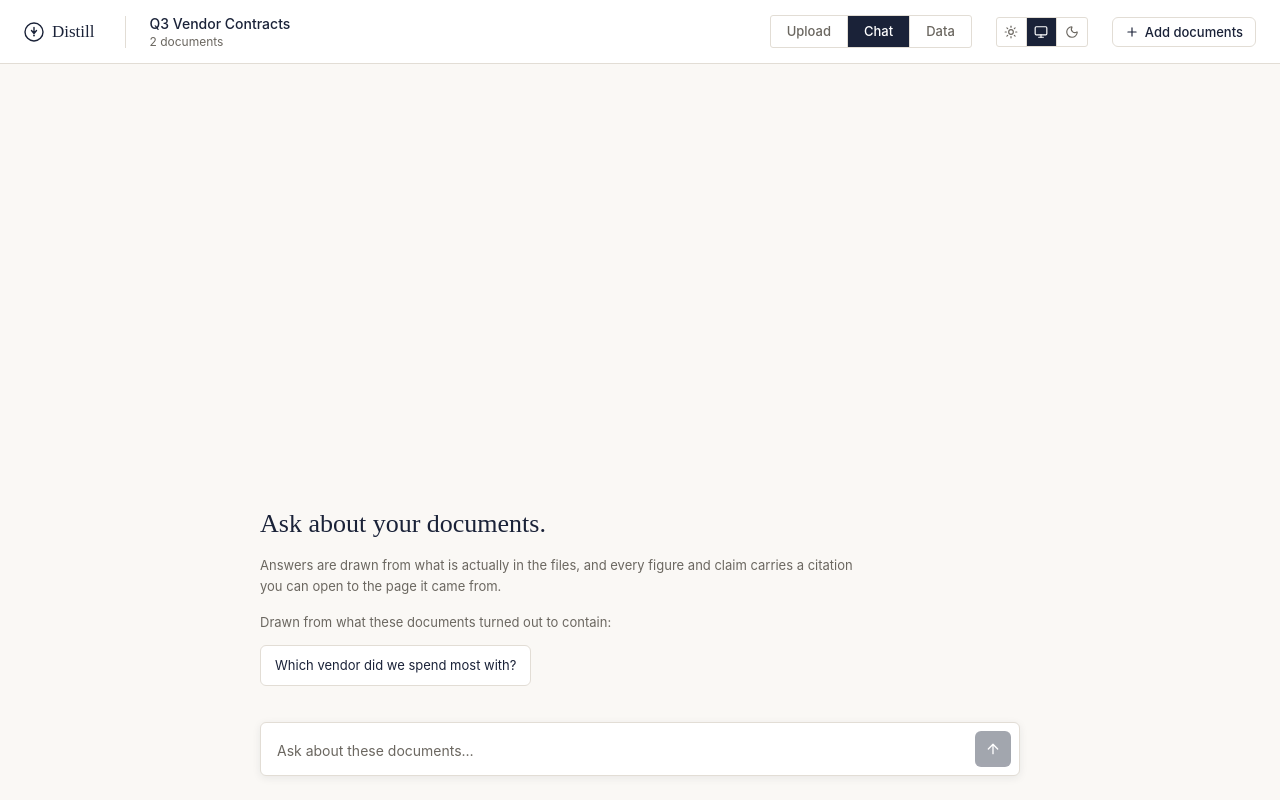
ChatScreen › puts a suggested question in the box rather than sending it
Click the button "Which vendor did we spend most with?": (396, 665) 260,644 -> 531,686
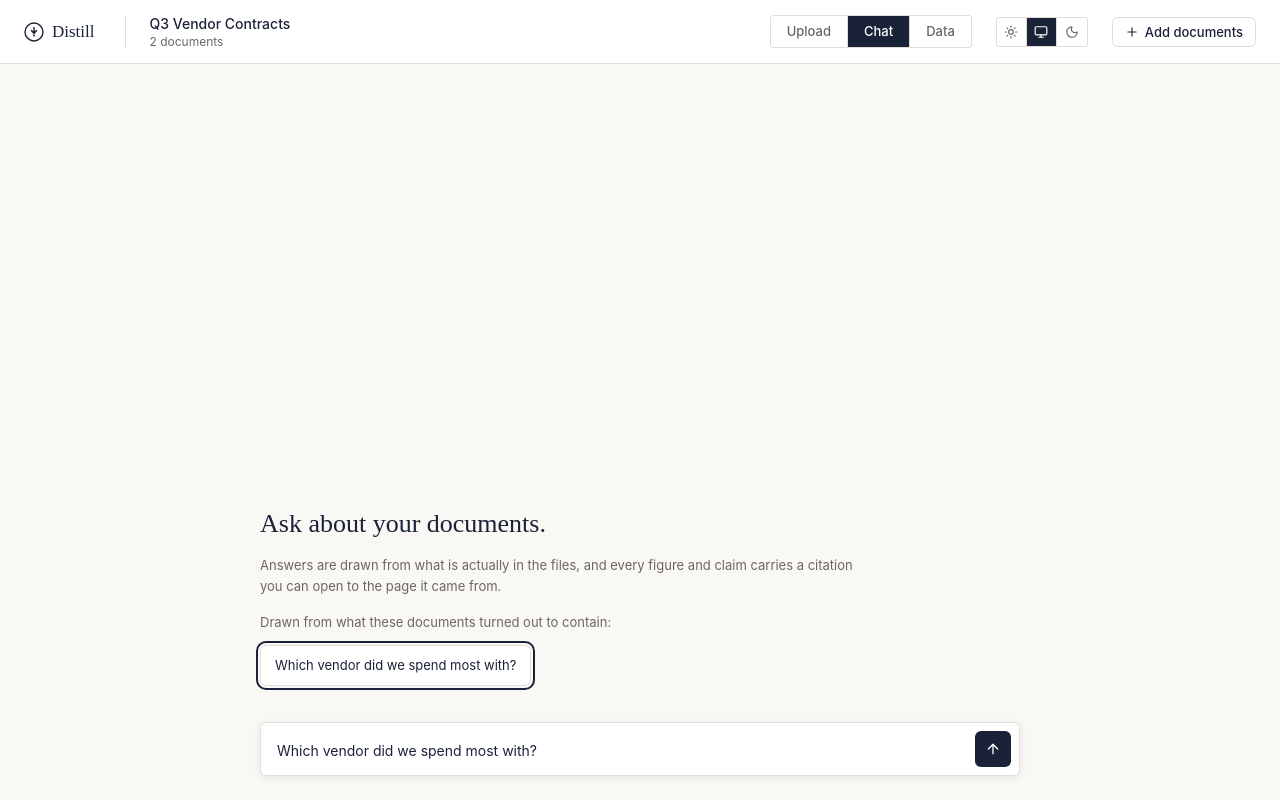
Result: the text box named "Ask about these documents" holds "Which vendor did we spend most with?" at 269,734 -> 967,767
